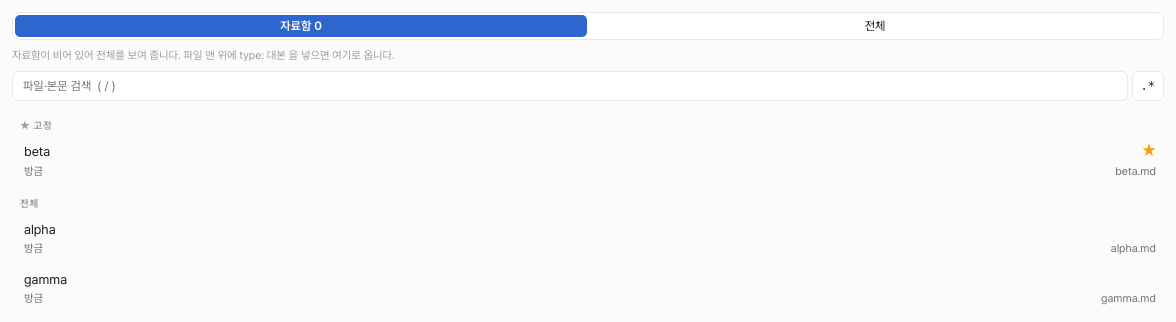
Test: FlatList 검색창 › 정규식 토글을 켜면 regex 모드로 검색한다
Click the button ".*" at (1148, 86), box [1132,71,1164,101]
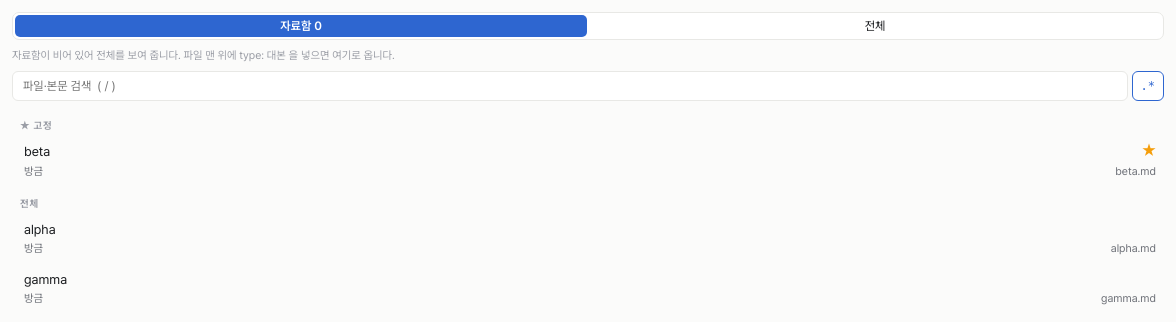
Type "a.c" into the field with placeholder "파일·본문 검색 ( / )" at (570, 86), box [12,71,1128,101]
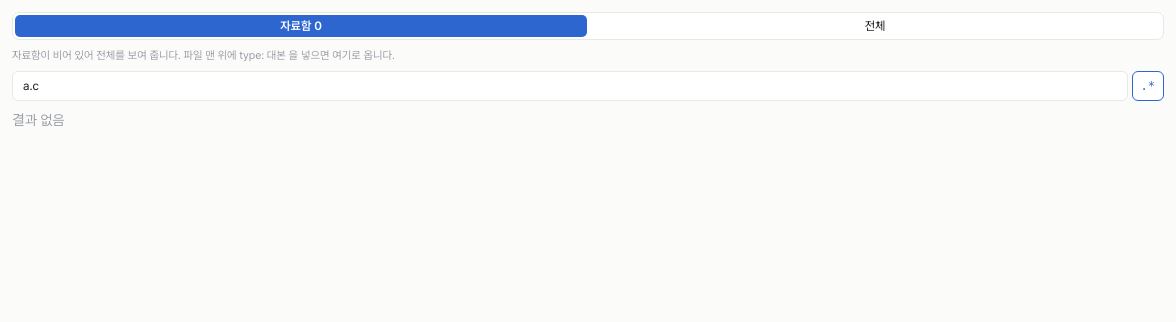
Now the text "결과 없음" is shown, box [12,112,65,128]
